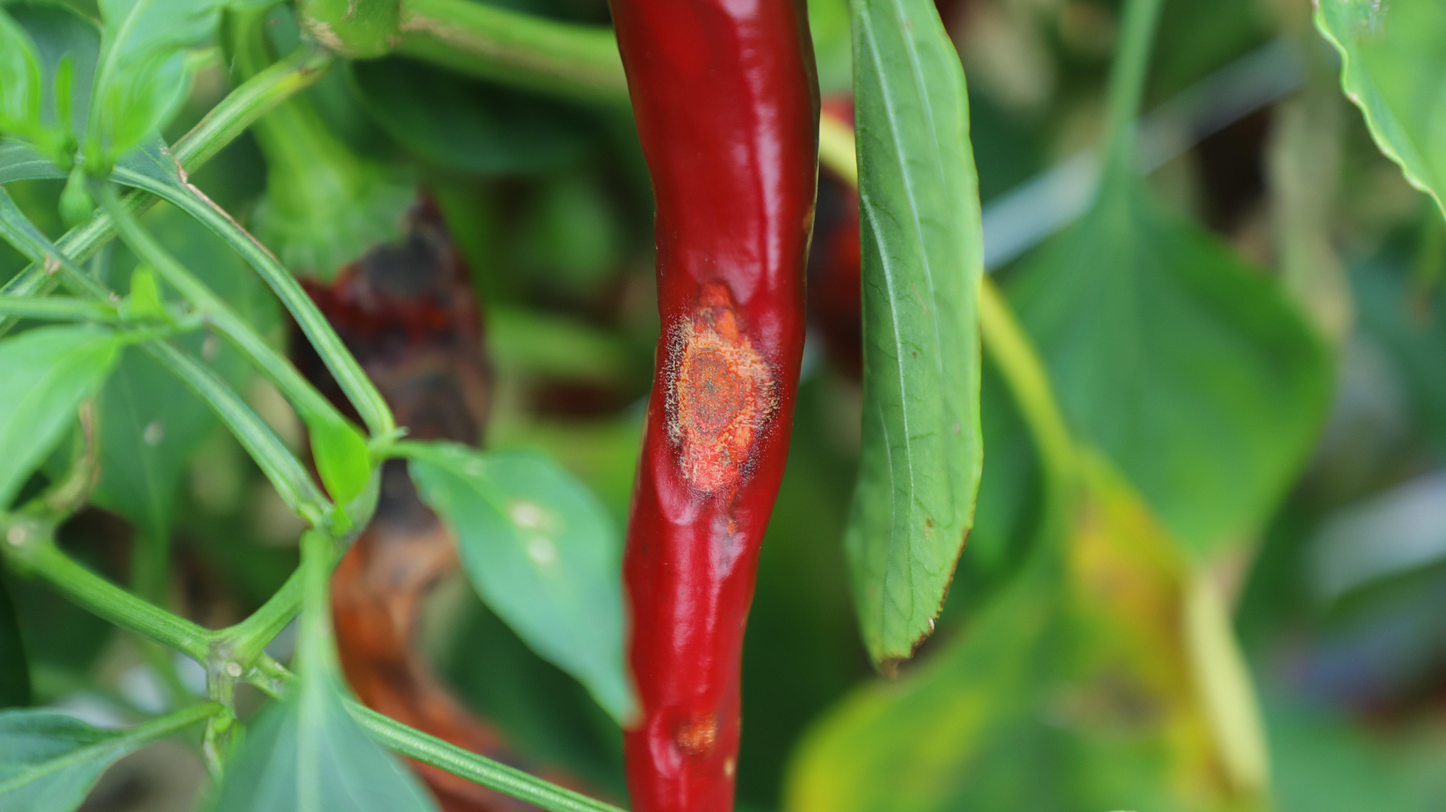Busuk Buah Antraknosa: (605, 2, 824, 808)
